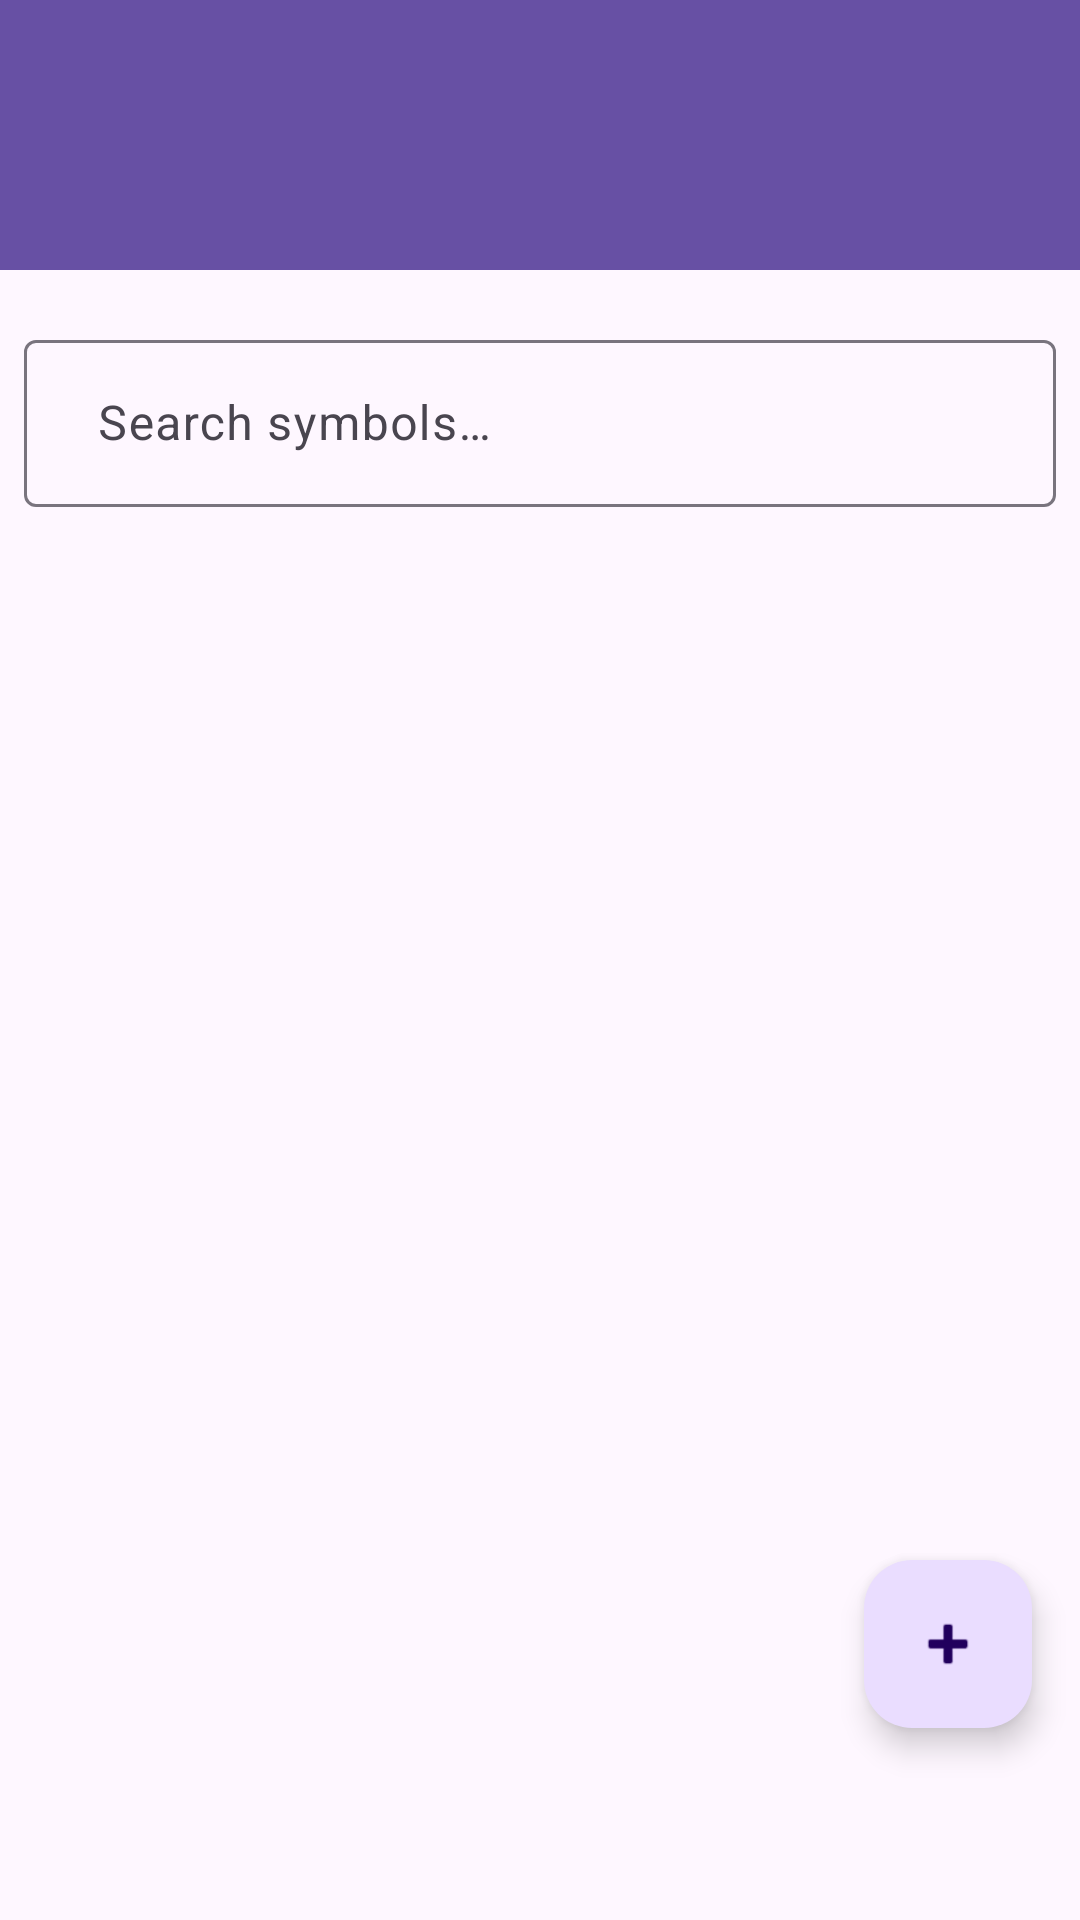

Icons on this 1080×1920 Android screen, each with the point to tap as [x,y]:
Add: [948,1644]
